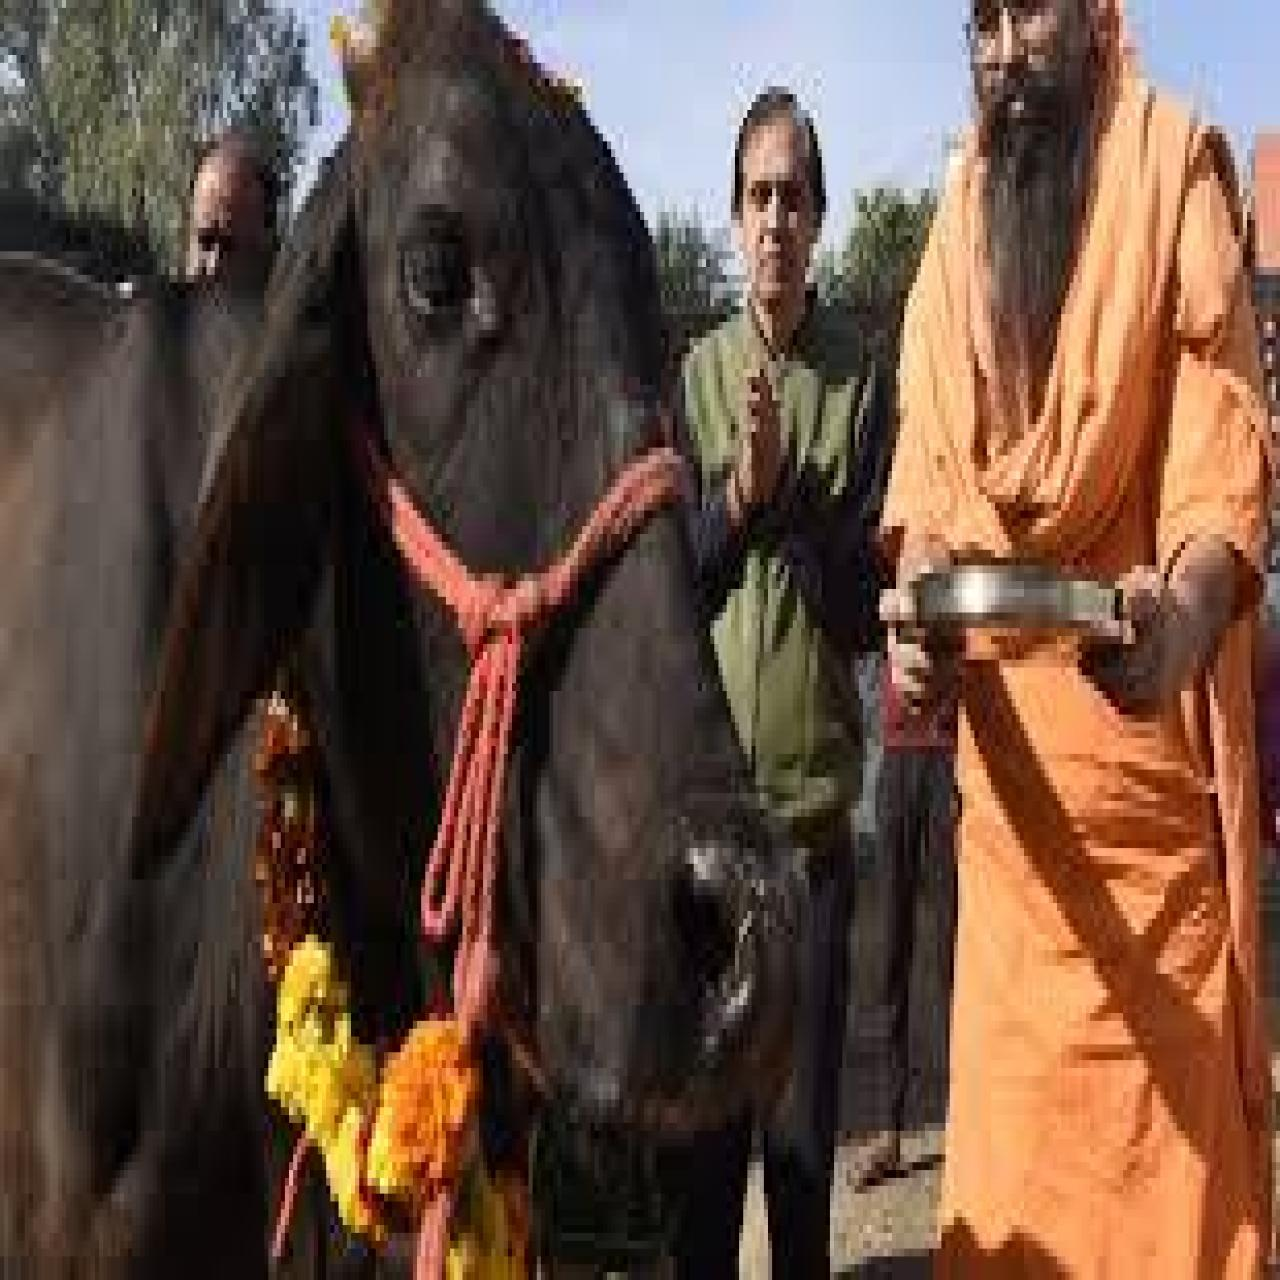cow: (0, 0, 801, 1280)
